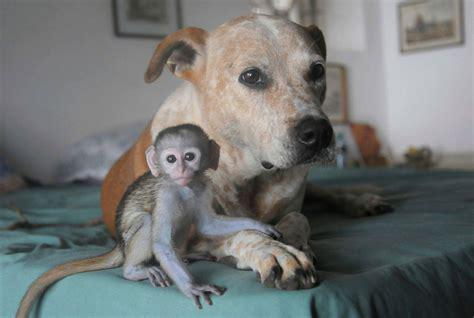dog: (100, 14, 387, 289)
monkey: (13, 124, 277, 318)
